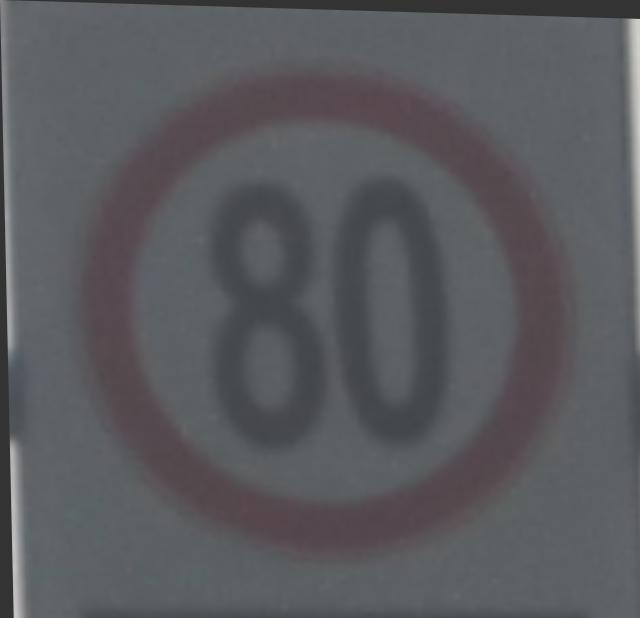limit80: (59, 48, 583, 570)
